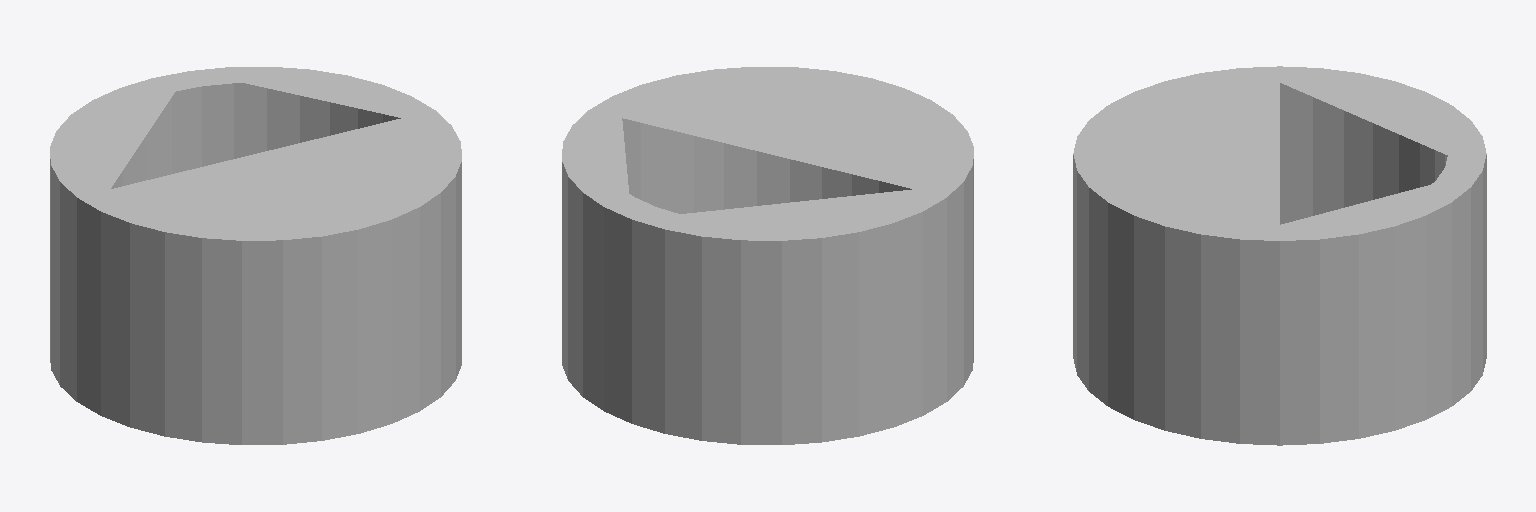
File: inner_ring_gaffa.obj
The picture shows the model from 3 angles: view 1: azimuth 30°, elevation 25°; view 2: azimuth 150°, elevation 25°; view 3: azimuth 270°, elevation 25°; orthographic projection.
Parts seen in each view (by area): view 1: Cylinder.001_Cylinder.004; view 2: Cylinder.001_Cylinder.004; view 3: Cylinder.001_Cylinder.004.
Part boxes in pixels (left/top/right/bottom): Cylinder.001_Cylinder.004: left=50, top=67, right=461, bottom=444; Cylinder.001_Cylinder.004: left=562, top=67, right=973, bottom=444; Cylinder.001_Cylinder.004: left=1073, top=66, right=1486, bottom=445.
Size of the model in its own units: 0.9069 by 0.4948 by 0.9069.